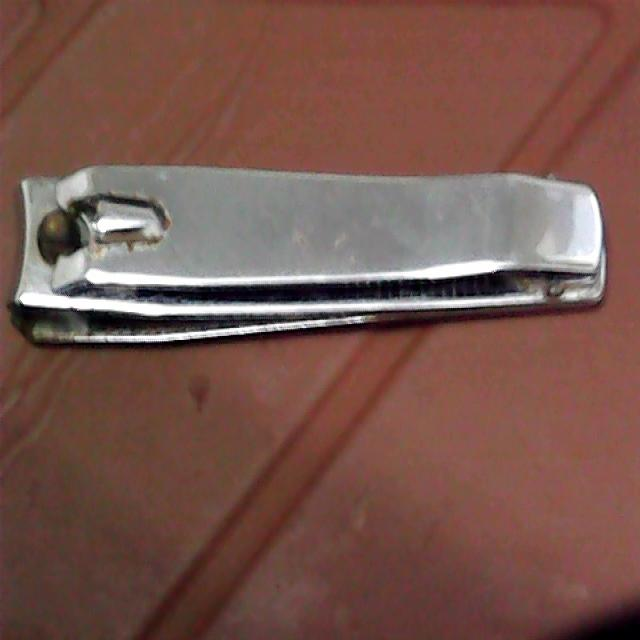Nail_clipper: (13, 164, 606, 343)
